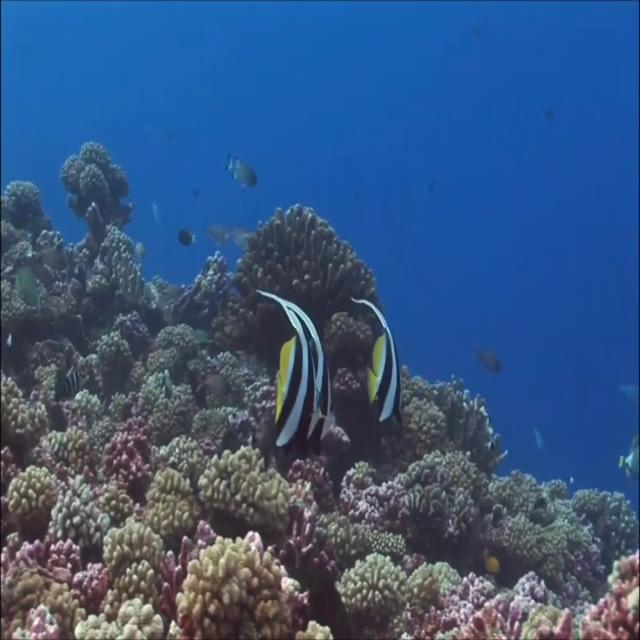Bannerfish: (254, 285, 330, 439), (349, 297, 404, 427)
